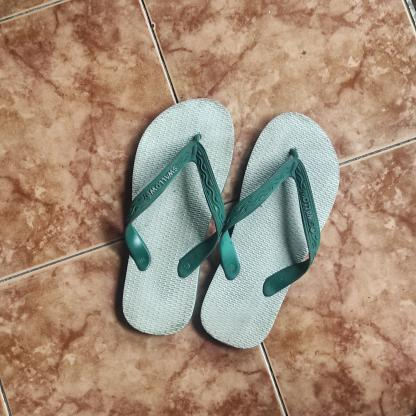Green Swallow: (198, 109, 340, 352), (116, 96, 237, 337)
